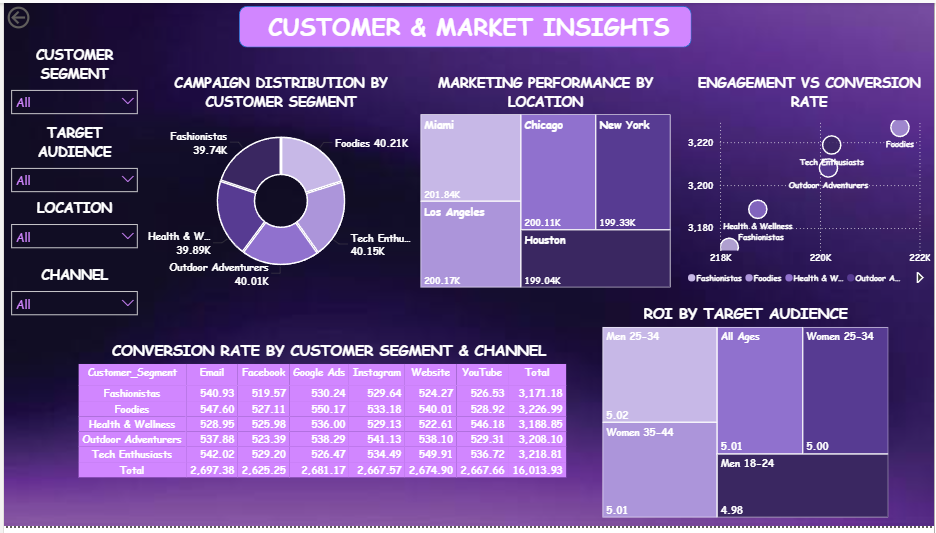

Layout of this report page (visuals, bound fields, positions):
{"tool":"powerbi","page":{"name":"CUSTOMER & MARKET INSIGHTS","canvas":[1280,720],"ordinal":2},"visuals":[{"type":"image","box":[0,0,1280,720.6],"z":0},{"type":"shape","box":[322.9,4.3,622.9,57.1],"z":1000},{"type":"textbox","box":[0,4.3,1280,54.3],"z":2000},{"type":"donutChart","title":"CAMPAIGN DISTRIBUTION BY CUSTOMER SEGMENT","fields":{"Category":["marketing_Cleaned.Customer_Segment"],"Y":["CountNonNull(marketing_Cleaned.Campaign_ID)"]},"box":[194.3,95.7,374.3,300],"z":3000},{"type":"scatterChart","title":"ENGAGEMENT VS CONVERSION RATE","fields":{"X":["Sum(marketing_Cleaned.Engagement_Score)"],"Y":["Sum(marketing_Cleaned.Conversion_Rate)"],"Series":["marketing_Cleaned.Customer_Segment"],"Size":["Sum(marketing_Cleaned.Clicks)"]},"box":[935.7,95.7,344.3,300],"z":4000},{"type":"treemap","title":"MARKETING PERFORMANCE BY LOCATION","fields":{"Group":["marketing_Cleaned.Location"],"Values":["Sum(marketing_Cleaned.ROI)"]},"box":[568.4,96.3,353.7,300],"z":5000},{"type":"actionButton","box":[0,0,100,40],"z":6000},{"type":"pivotTable","title":"CONVERSION RATE BY CUSTOMER SEGMENT & CHANNEL","fields":{"Rows":["marketing_Cleaned.Customer_Segment"],"Columns":["marketing_Cleaned.Channel_Used"],"Values":["Sum(marketing_Cleaned.Conversion_Rate)"]},"box":[97.7,463.8,699.2,217.5],"z":7000},{"type":"treemap","title":"ROI BY TARGET AUDIENCE","fields":{"Group":["marketing_Cleaned.Target_Audience"],"Values":["Avg(marketing_Cleaned.ROI)"]},"box":[818.9,412.9,403.3,300],"z":8000},{"type":"slicer","title":"TARGET AUDIENCE","fields":{"Values":["marketing_Cleaned.Target_Audience"]},"box":[0,165.2,194.1,103.2],"z":9000},{"type":"slicer","title":"LOCATION","fields":{"Values":["marketing_Cleaned.Location"]},"box":[0,268.4,194.1,103.2],"z":10000},{"type":"slicer","title":"CHANNEL","fields":{"Values":["marketing_Cleaned.Channel_Used"]},"box":[0,360.6,194.1,103.2],"z":11000},{"type":"slicer","title":"CUSTOMER SEGMENT","fields":{"Values":["marketing_Cleaned.Customer_Segment"]},"box":[0,57.8,194.1,103.2],"z":12000}]}

Visuals, with their boxes in screenshot pixels (x1, y1, x2, y2), scaled from the page's 1280x720 canvas onto the 936x533 screenshot:
image: l=0, t=0, r=935, b=532
shape: l=236, t=3, r=692, b=45
textbox: l=0, t=3, r=935, b=43
"CAMPAIGN DISTRIBUTION BY CUSTOMER SEGMENT" donutChart: l=142, t=71, r=416, b=293
"ENGAGEMENT VS CONVERSION RATE" scatterChart: l=684, t=71, r=935, b=293
"MARKETING PERFORMANCE BY LOCATION" treemap: l=416, t=71, r=674, b=293
actionButton: l=0, t=0, r=73, b=30
"CONVERSION RATE BY CUSTOMER SEGMENT & CHANNEL" pivotTable: l=71, t=343, r=583, b=504
"ROI BY TARGET AUDIENCE" treemap: l=599, t=306, r=894, b=528
"TARGET AUDIENCE" slicer: l=0, t=122, r=142, b=199
"LOCATION" slicer: l=0, t=199, r=142, b=275
"CHANNEL" slicer: l=0, t=267, r=142, b=343
"CUSTOMER SEGMENT" slicer: l=0, t=43, r=142, b=119
